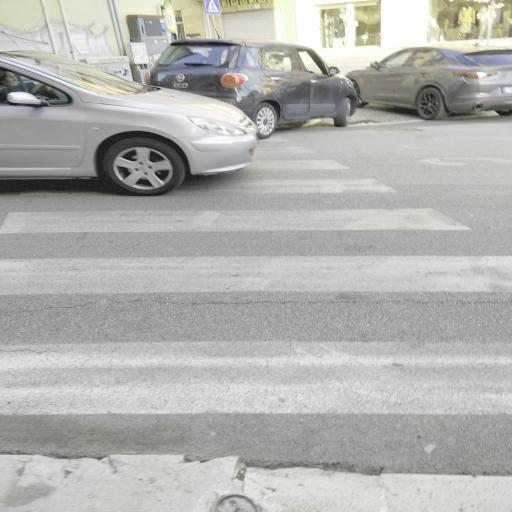crosswalk: (1, 174, 478, 239)
